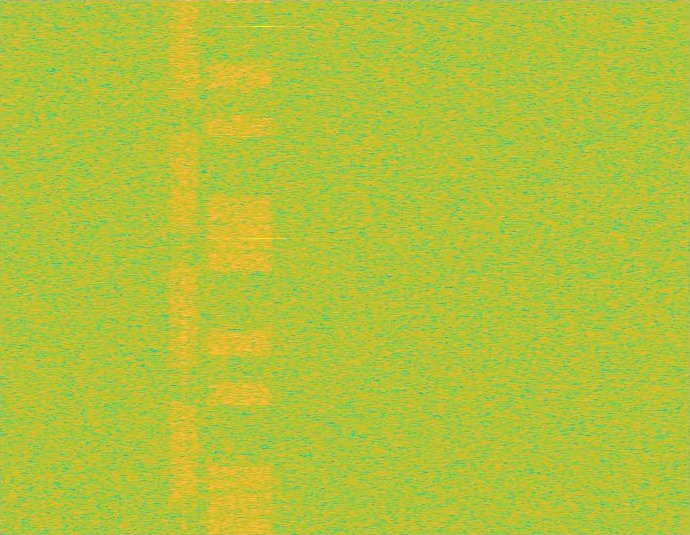5G: (167, 0, 202, 534)
DSSS: (182, 0, 187, 534)
LTE: (205, 0, 274, 534)
Radar: (256, 0, 270, 534)
